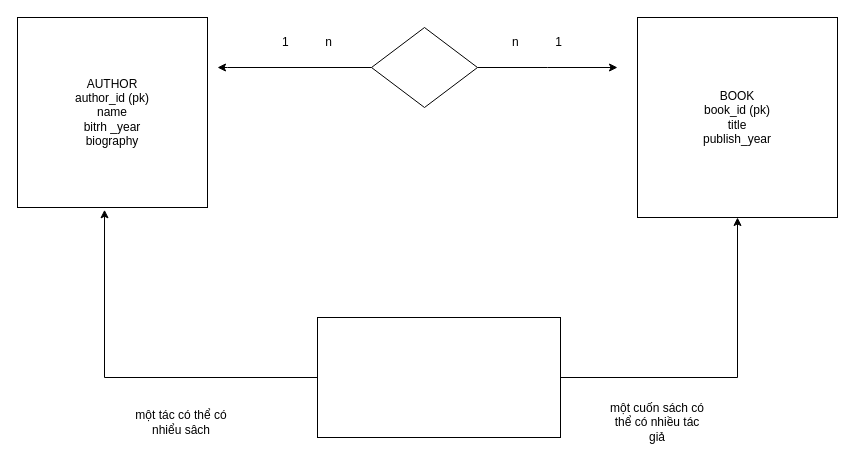
Some shapes in this 855 by 470 pixel diagram are drawn without their labels. The centre of each missing label's shape, as x and y in pixels:
"BOOK_AUTHOR book_id(FK) author_id(FK)" goes at point 438,377.
"viết" goes at point 424,67.
